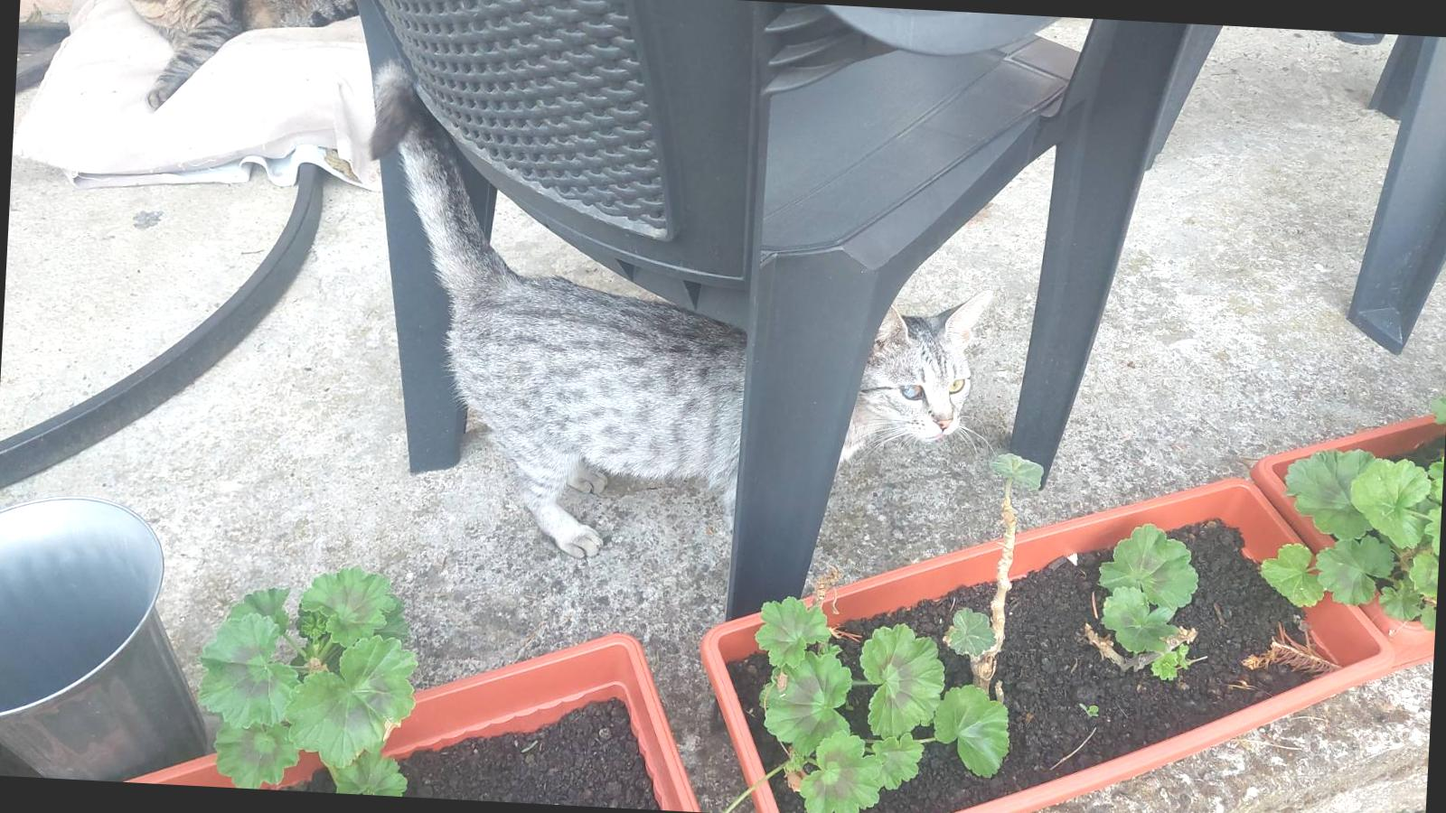macka: (346, 58, 1006, 585), (99, 0, 409, 123)
